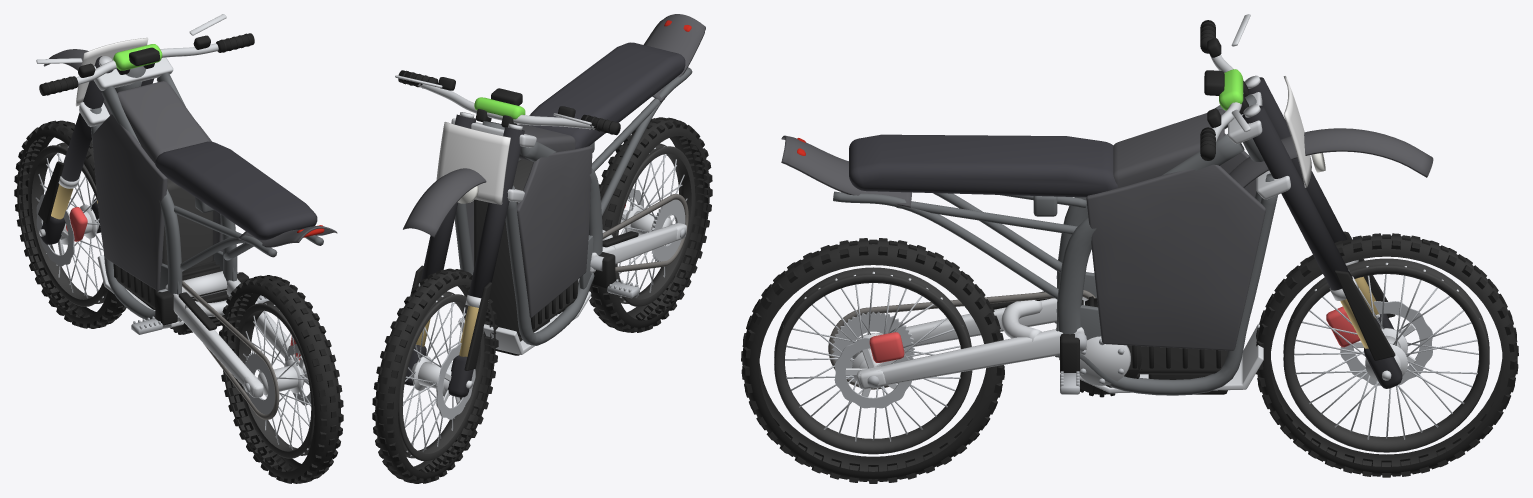
Rendered from bike-sting.glb.
3 views of the same model, side by side, from view 1: azimuth 30°, elevation 25°; view 2: azimuth 150°, elevation 25°; view 3: azimuth 270°, elevation 25° (orthographic). The views are drawn at different scales.
Visible parts, largest first — view 1: body, wheelR, wheelF, fork, swingarm, slider; view 2: body, fork, wheelF, wheelR, swingarm, slider; view 3: body, wheelR, wheelF, fork, swingarm, slider.
Boxes of the visible parts, left/top/right/bottom form: body: left=90, top=66, right=337, bottom=334; wheelR: left=219, top=275, right=343, bottom=483; wheelF: left=14, top=120, right=126, bottom=328; fork: left=36, top=14, right=254, bottom=188; swingarm: left=157, top=271, right=307, bottom=419; slider: left=38, top=161, right=100, bottom=244; body: left=454, top=14, right=705, bottom=355; fork: left=395, top=70, right=620, bottom=307; wheelF: left=372, top=268, right=498, bottom=483; wheelR: left=589, top=117, right=712, bottom=332; swingarm: left=590, top=194, right=688, bottom=273; slider: left=404, top=265, right=491, bottom=397; body: left=781, top=94, right=1277, bottom=397; wheelR: left=741, top=238, right=1004, bottom=483; wheelF: left=1256, top=233, right=1518, bottom=477; fork: left=1200, top=14, right=1433, bottom=300; swingarm: left=828, top=290, right=1095, bottom=389; slider: left=1326, top=231, right=1402, bottom=388.
Bounding box in the file's own units: 0.76 × 1.14 × 1.96.
